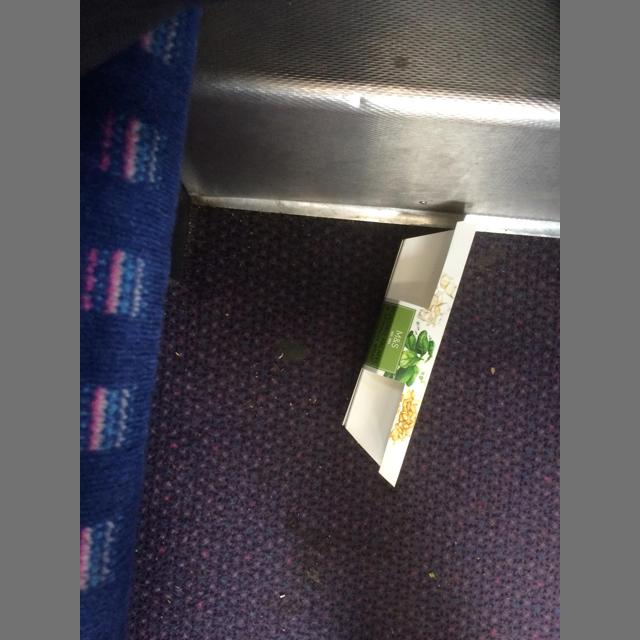litter: (342, 220, 479, 487)
